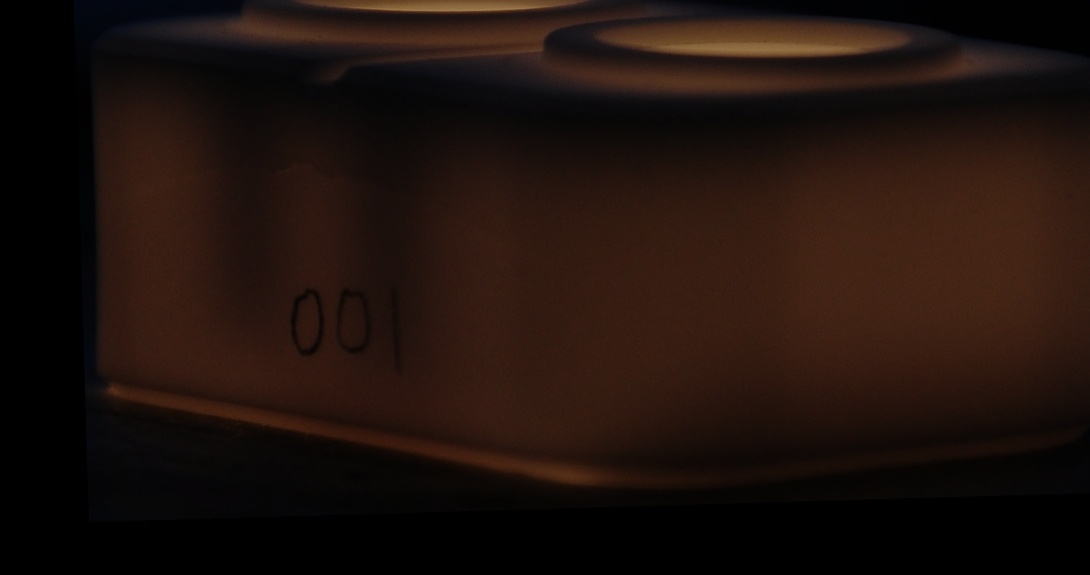flaw: (100, 148, 515, 232)
